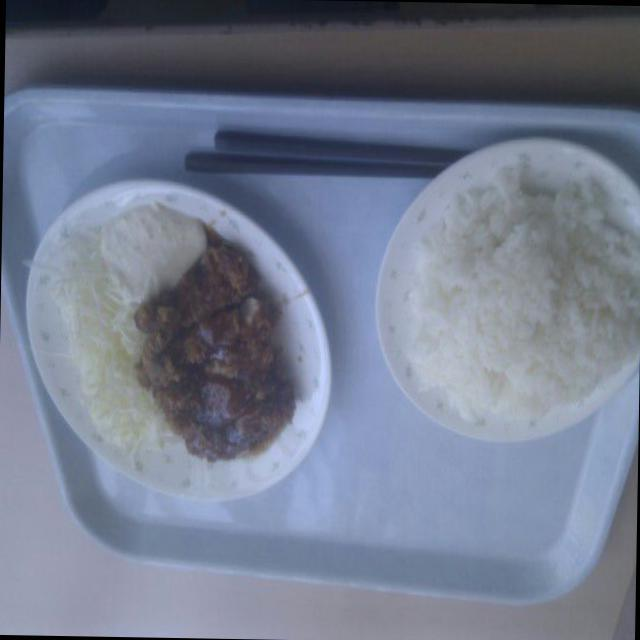Rice: (398, 172, 638, 430)
